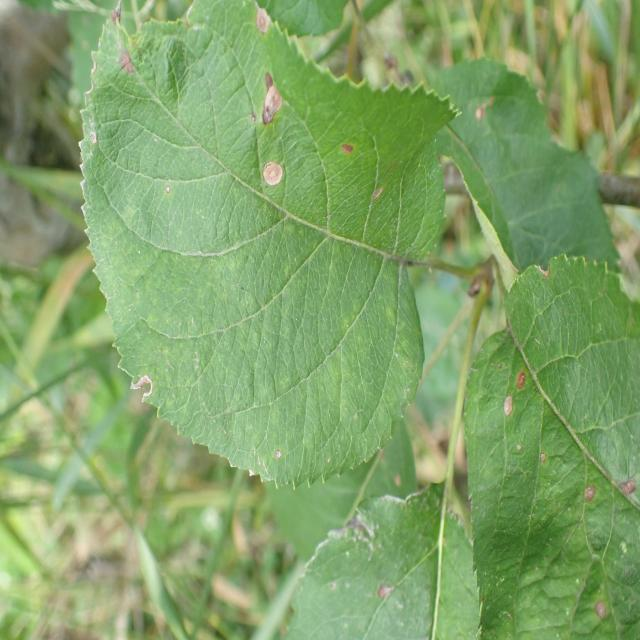Black Rot: (491, 333, 529, 431), (251, 148, 305, 210), (248, 52, 284, 136), (123, 361, 172, 421), (327, 496, 375, 546), (245, 0, 289, 53), (569, 459, 605, 519), (599, 471, 637, 514), (592, 589, 618, 635), (336, 114, 361, 160), (364, 566, 402, 596)
